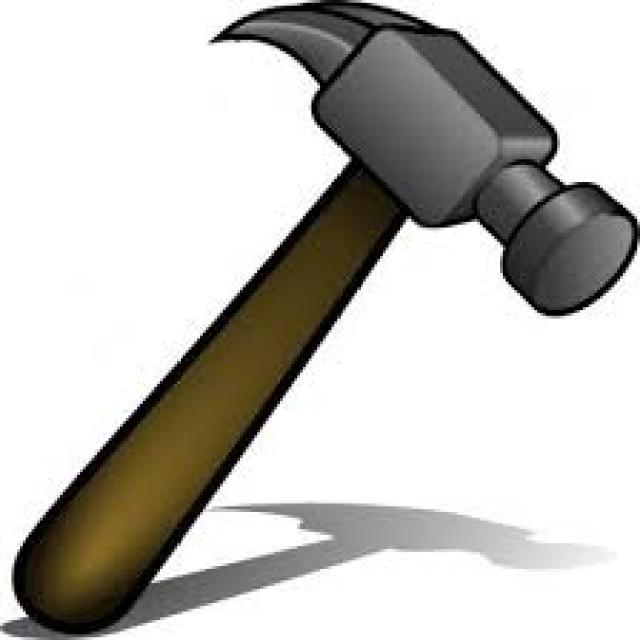Palu: (0, 8, 640, 637)
